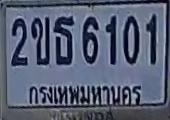0: (123, 15, 138, 64)
1: (145, 14, 156, 64), (105, 15, 116, 64)
2: (11, 17, 27, 66)
6: (82, 16, 98, 63)
A02: (30, 16, 50, 65)
A24: (54, 15, 74, 64)
BKK: (25, 80, 144, 107)
